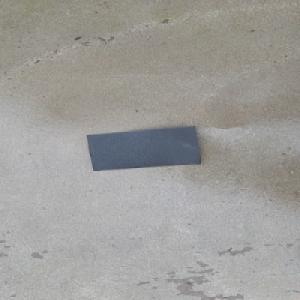PaintChip: (86, 125, 202, 171)
